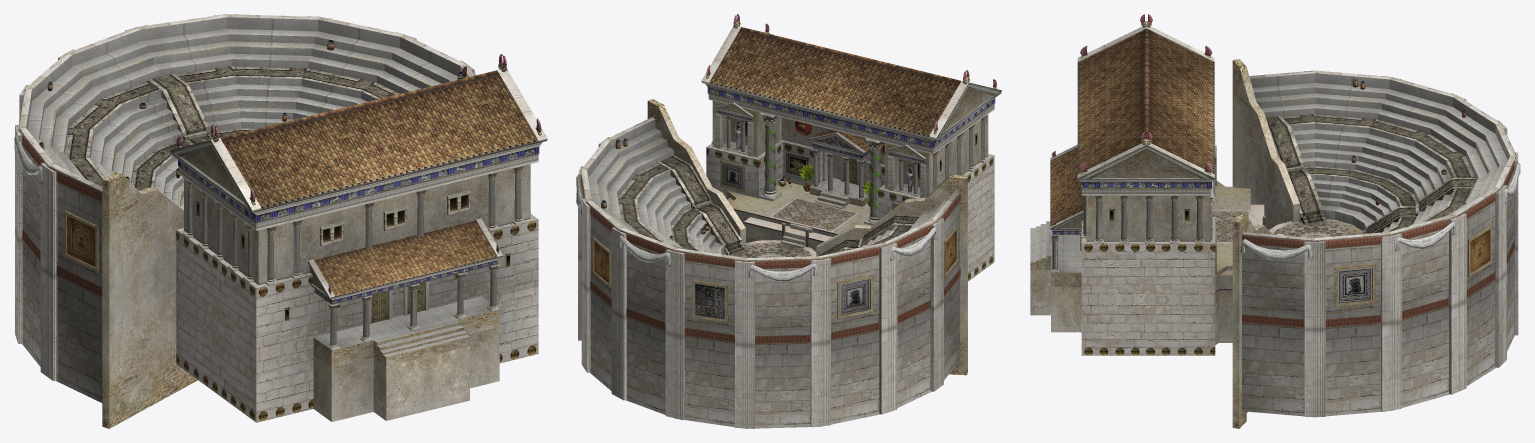
Rendered from s_macedonians_theater.glb.
3 renders of one model, left to right at view 1: azimuth 30°, elevation 25°; view 2: azimuth 150°, elevation 25°; view 3: azimuth 270°, elevation 25°, orthographic. The views are drawn at different scales.
Parts seen in each view (by area): view 1: s_macedonians_theater_part0, s_macedonians_theater_part4, s_macedonians_theater_part2, s_macedonians_theater_part3; view 2: s_macedonians_theater_part0, s_macedonians_theater_part2, s_macedonians_theater_part3, s_macedonians_theater_part4, s_macedonians_theater_part1, s_macedonians_theater_part5; view 3: s_macedonians_theater_part0, s_macedonians_theater_part2, s_macedonians_theater_part4, s_macedonians_theater_part3, s_macedonians_theater_part1.
Part boxes in pixels (x1,y1,x2,y2): s_macedonians_theater_part0: (18, 14, 547, 428); s_macedonians_theater_part4: (26, 17, 490, 357); s_macedonians_theater_part2: (14, 14, 541, 381); s_macedonians_theater_part3: (18, 67, 524, 311); s_macedonians_theater_part0: (581, 26, 1001, 428); s_macedonians_theater_part2: (576, 14, 996, 428); s_macedonians_theater_part3: (580, 112, 986, 344); s_macedonians_theater_part4: (587, 119, 946, 254); s_macedonians_theater_part1: (724, 181, 870, 256); s_macedonians_theater_part5: (764, 124, 881, 217); s_macedonians_theater_part0: (1030, 26, 1516, 428); s_macedonians_theater_part2: (1051, 14, 1520, 416); s_macedonians_theater_part4: (1030, 73, 1509, 272); s_macedonians_theater_part3: (1051, 125, 1516, 327); s_macedonians_theater_part1: (1212, 181, 1362, 275).
Size of the model in its own units: 5.03 by 3.71 by 6.
6 materials, 6 textured.
